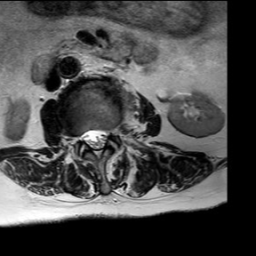CCS_normal: (92, 120, 100, 165)
LFS_stenosis: (108, 116, 117, 145)
LLS_normal: (100, 119, 108, 151)
RFS_stenosis: (73, 123, 82, 151)
RLS_normal: (82, 121, 92, 152)
